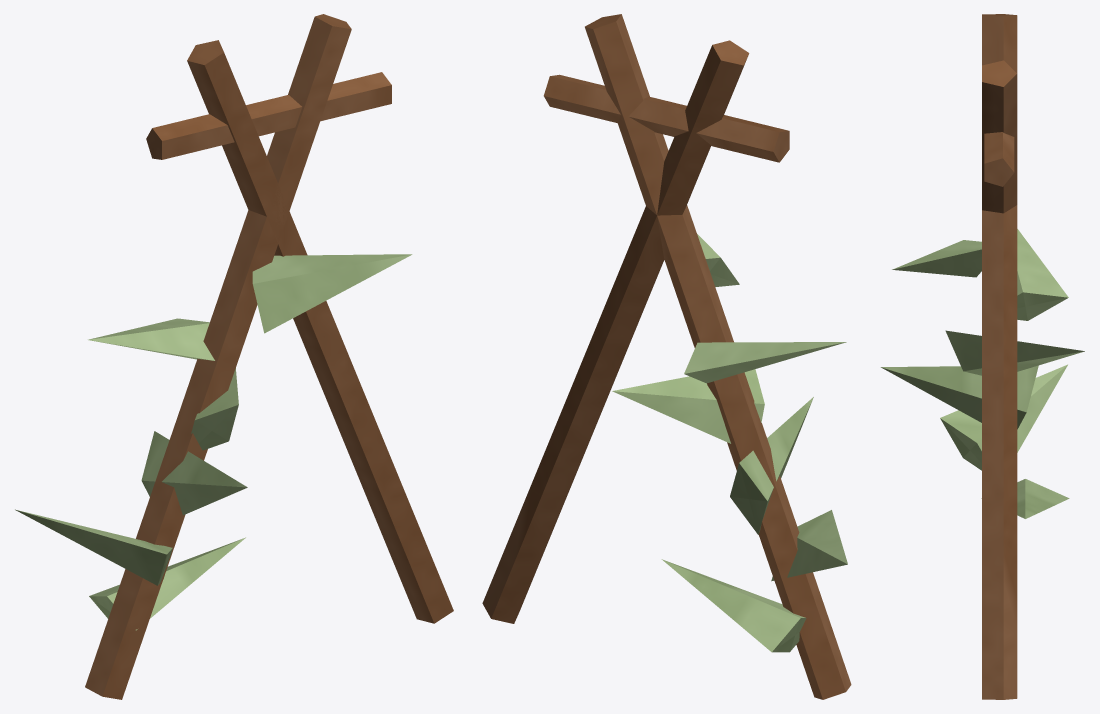
File: sm_crop_pea_3.glb
The picture shows the model from 3 angles, left to right: view 1: azimuth 30°, elevation 25°; view 2: azimuth 150°, elevation 25°; view 3: azimuth 270°, elevation 25°; orthographic projection. The views are drawn at different scales.
Parts seen in each view (by area): view 1: sm_crop_pea_3; view 2: sm_crop_pea_3; view 3: sm_crop_pea_3.
Boxes of the visible parts, box(x1,y1,x2,y2) form: sm_crop_pea_3: box(15, 14, 453, 699); sm_crop_pea_3: box(482, 14, 851, 699); sm_crop_pea_3: box(880, 14, 1084, 699).
Bounding box in the file's own units: 0.3134 × 0.4697 × 0.1481.
Materials: 1 (1 with a texture image).
